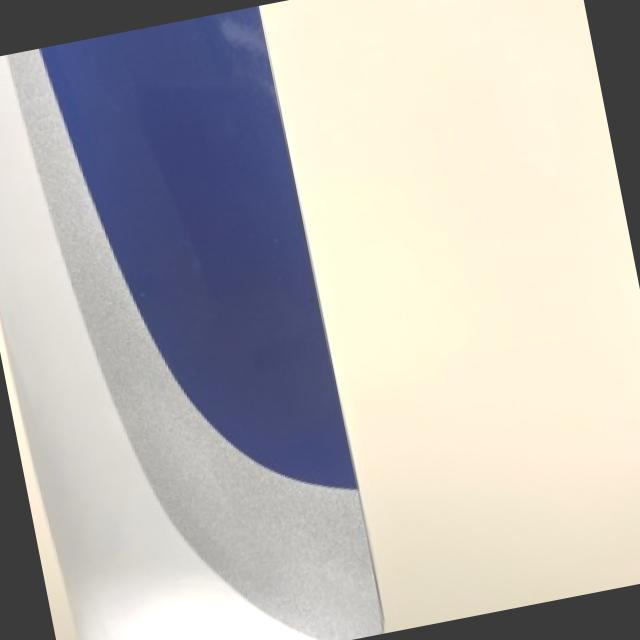healthy: (259, 0, 640, 631), (0, 49, 381, 640)
